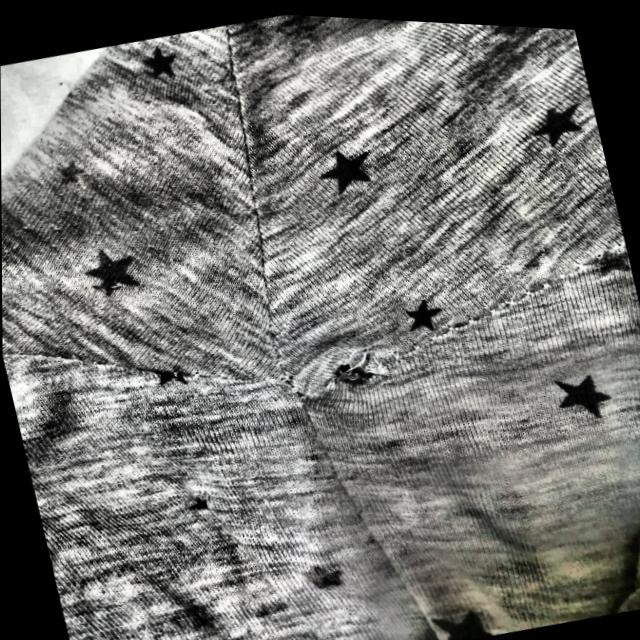Stitch: (271, 303, 427, 438)
